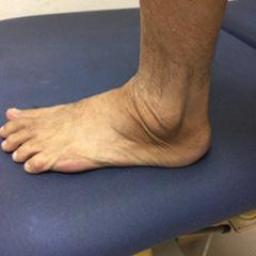Lateral View -Left Foot-: (3, 70, 220, 184)
